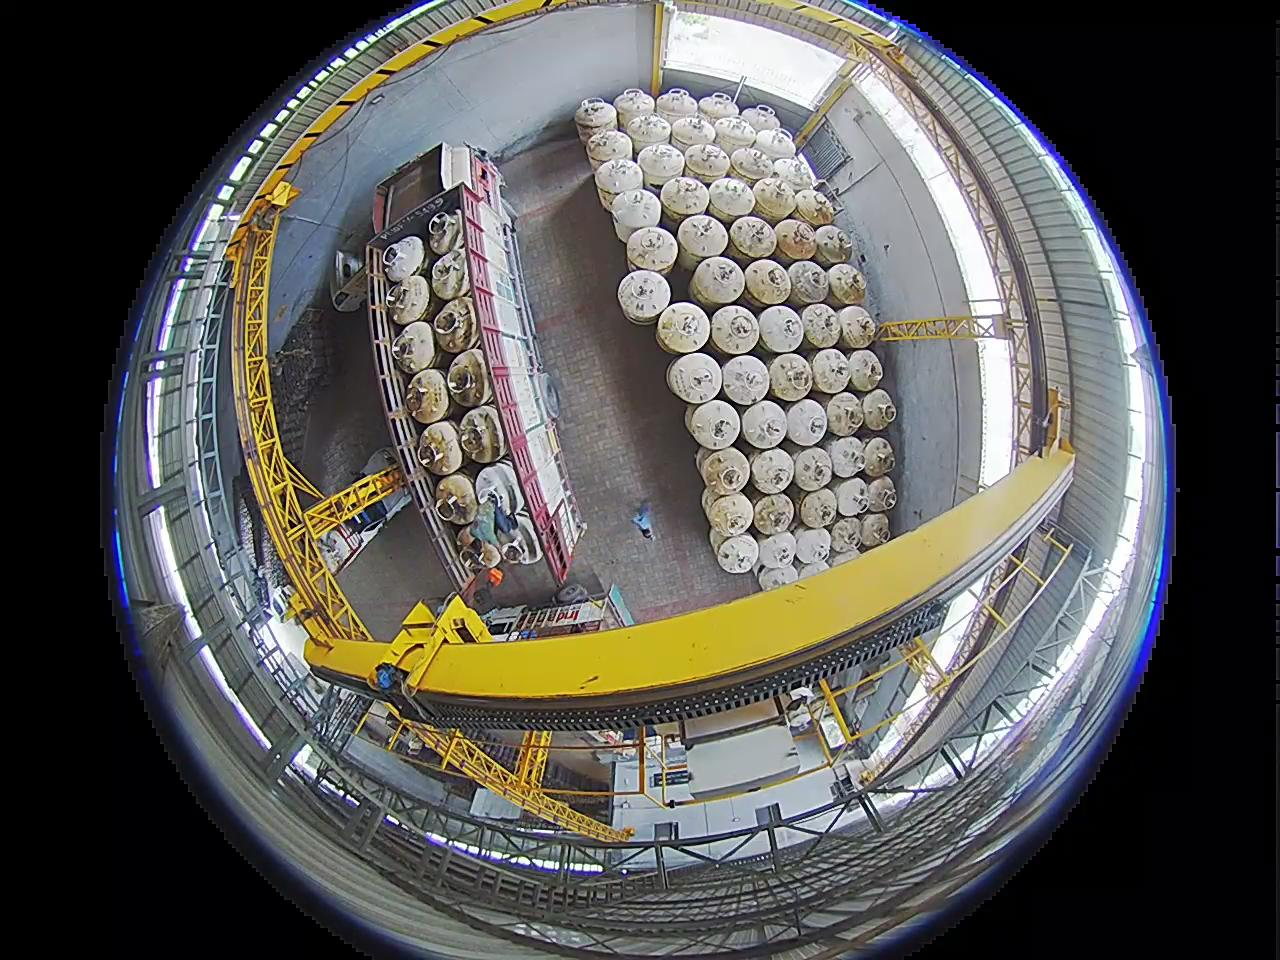cylinder: (617, 270, 689, 325), (667, 352, 722, 405), (687, 398, 741, 450), (656, 301, 710, 352), (709, 304, 762, 355), (691, 256, 744, 307), (595, 159, 652, 205), (404, 368, 452, 422), (720, 355, 770, 405), (740, 400, 790, 450), (699, 446, 750, 495), (433, 296, 478, 351), (677, 214, 728, 262), (757, 305, 806, 354), (744, 258, 794, 306), (417, 421, 464, 472), (391, 321, 436, 374), (612, 190, 660, 239), (385, 275, 430, 327), (626, 226, 675, 273), (766, 353, 813, 401), (749, 445, 796, 493), (636, 142, 685, 188), (432, 473, 478, 521), (707, 176, 756, 221), (660, 175, 709, 220), (430, 246, 471, 299), (706, 493, 754, 538), (728, 214, 777, 258), (584, 127, 632, 171), (382, 236, 426, 284), (785, 398, 829, 445), (669, 114, 717, 156), (683, 142, 731, 184), (786, 260, 830, 305), (790, 446, 834, 491), (751, 176, 797, 219), (810, 347, 852, 394), (574, 96, 618, 140), (799, 303, 842, 348), (774, 218, 819, 261), (624, 112, 672, 152), (752, 493, 796, 535), (826, 262, 868, 305), (655, 87, 699, 128), (836, 305, 877, 349), (716, 533, 761, 573), (825, 391, 865, 436), (827, 434, 867, 479), (814, 226, 855, 268), (798, 488, 839, 530), (712, 115, 757, 153), (730, 145, 775, 183), (846, 349, 885, 392), (428, 211, 465, 255), (792, 526, 832, 566), (794, 187, 835, 226), (757, 531, 798, 570), (833, 475, 871, 517), (612, 89, 653, 127), (770, 157, 812, 194), (861, 388, 898, 429), (754, 127, 796, 162), (860, 436, 896, 476), (697, 92, 738, 126), (829, 516, 864, 554), (864, 474, 898, 513), (740, 104, 780, 136), (859, 513, 892, 547), (757, 562, 797, 590), (684, 403, 711, 439), (709, 528, 738, 559)
truck: (366, 144, 584, 598), (325, 452, 395, 568), (490, 590, 640, 639), (342, 228, 394, 319)
